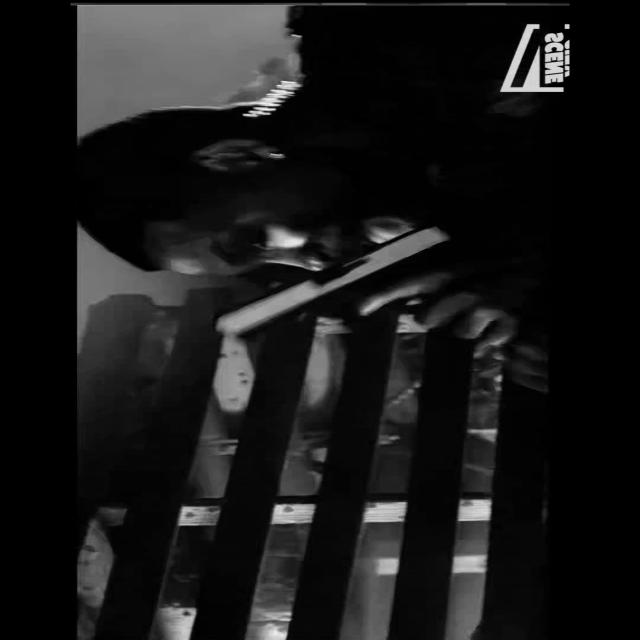weapons: (206, 216, 514, 360)
